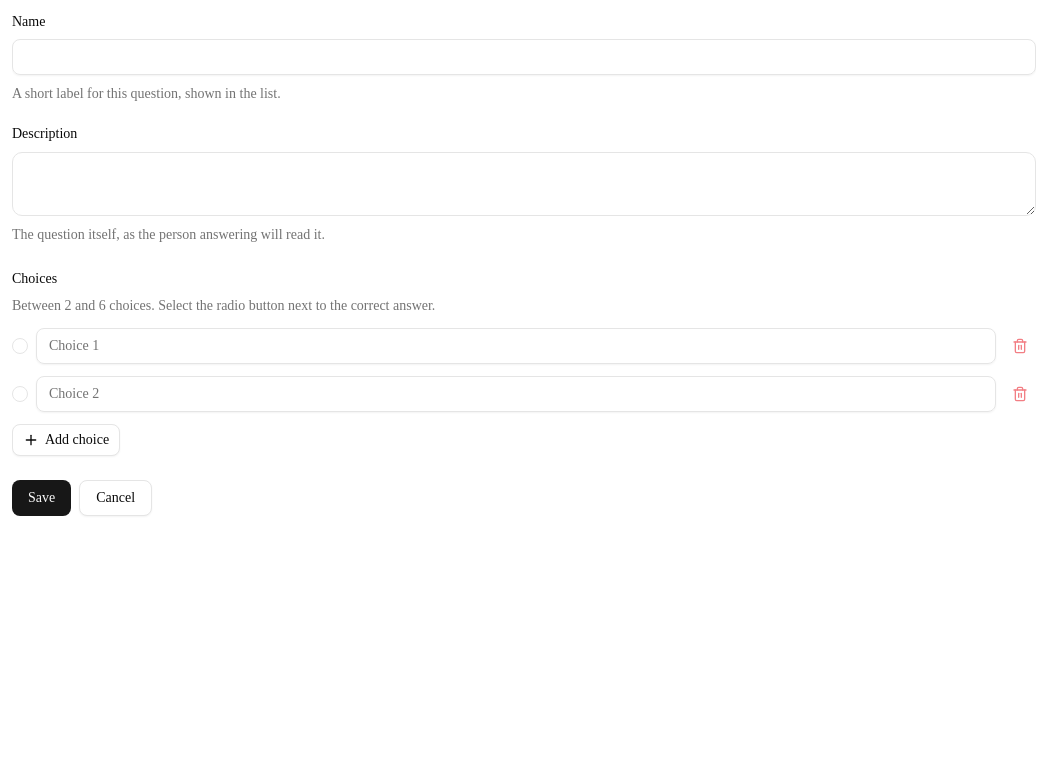
Test: McqForm choice editor › refuses to submit a question with an empty choice
The image size is (1048, 780).
Type "Capital" into the field labelled "Name" at [524, 57], box [12, 39, 1036, 75]
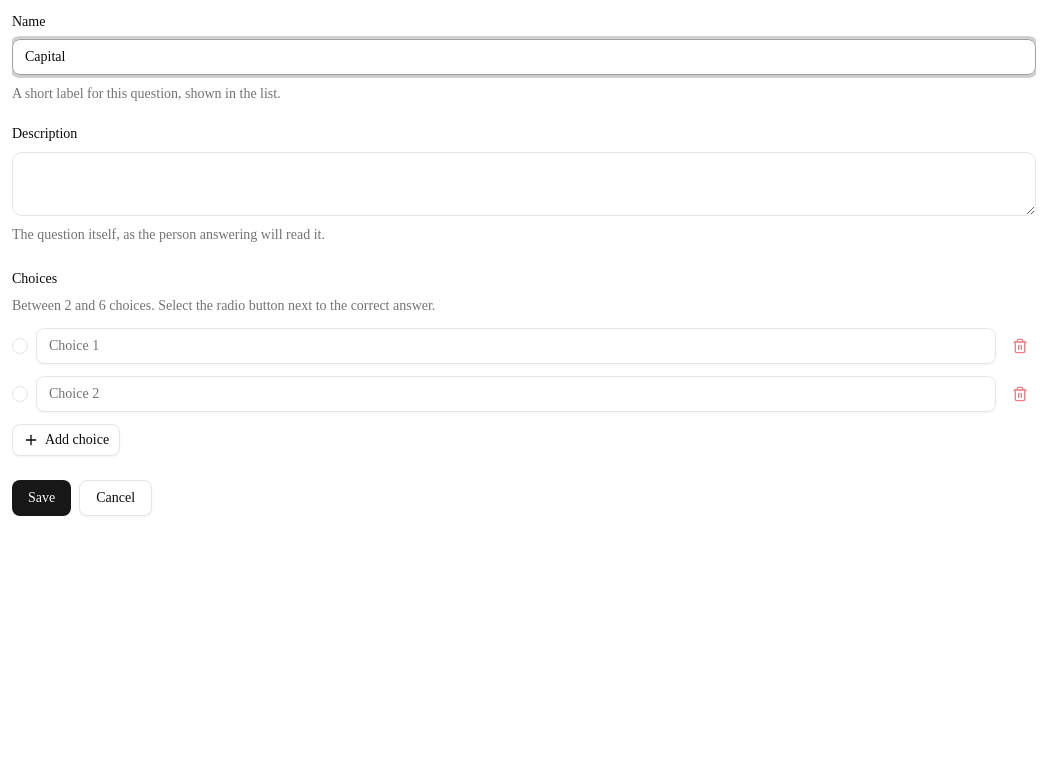
Type "Which one?" into the text box labelled "Description" at [524, 184], box [12, 152, 1036, 216]
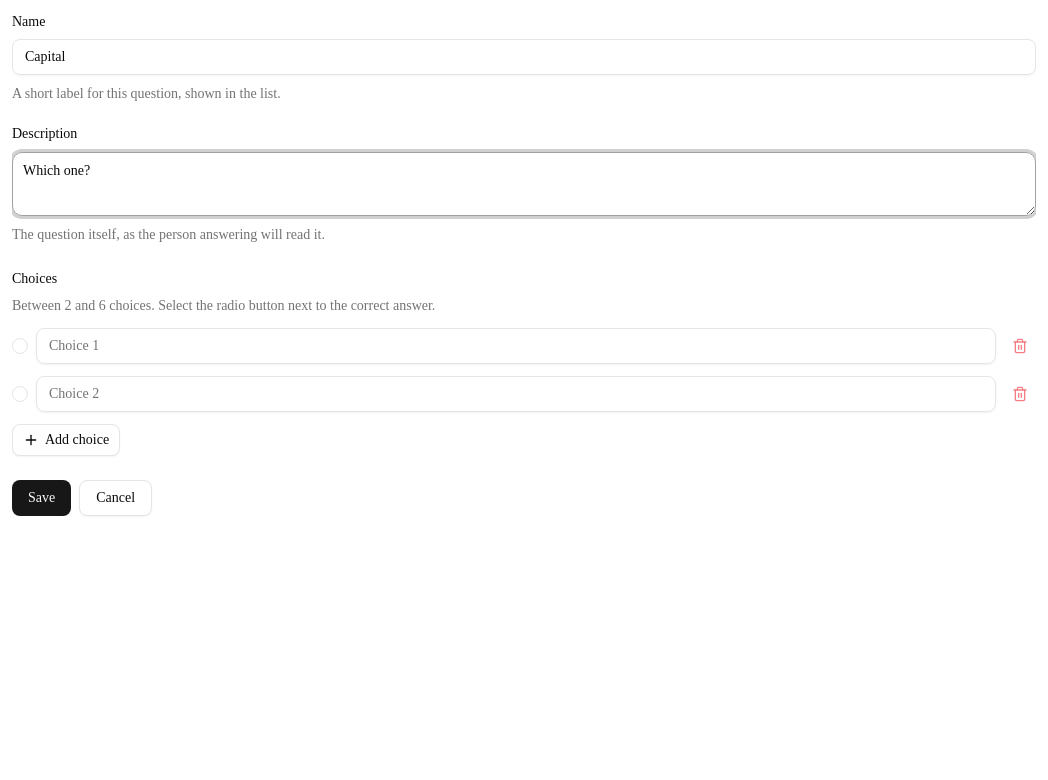
Type "Paris" into the field labelled "Choice 1" at [516, 346], box [36, 328, 996, 364]
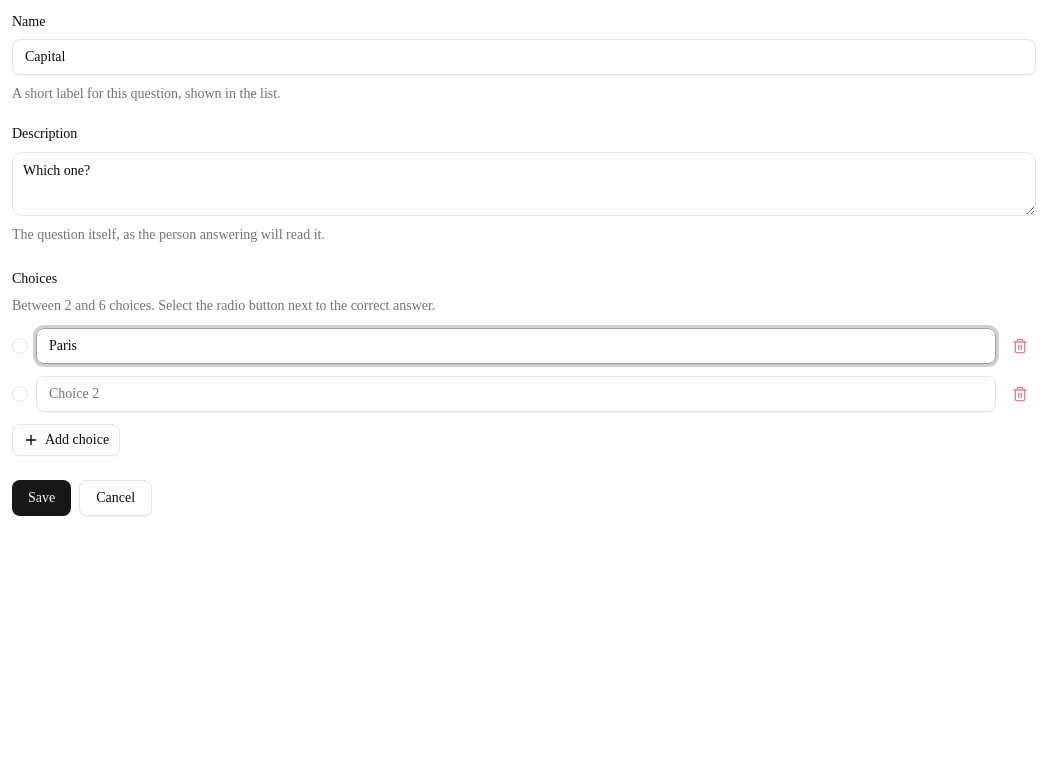
Click the radio button named "mark choice 1 as the correct answer" at [20, 346], box [12, 338, 28, 354]
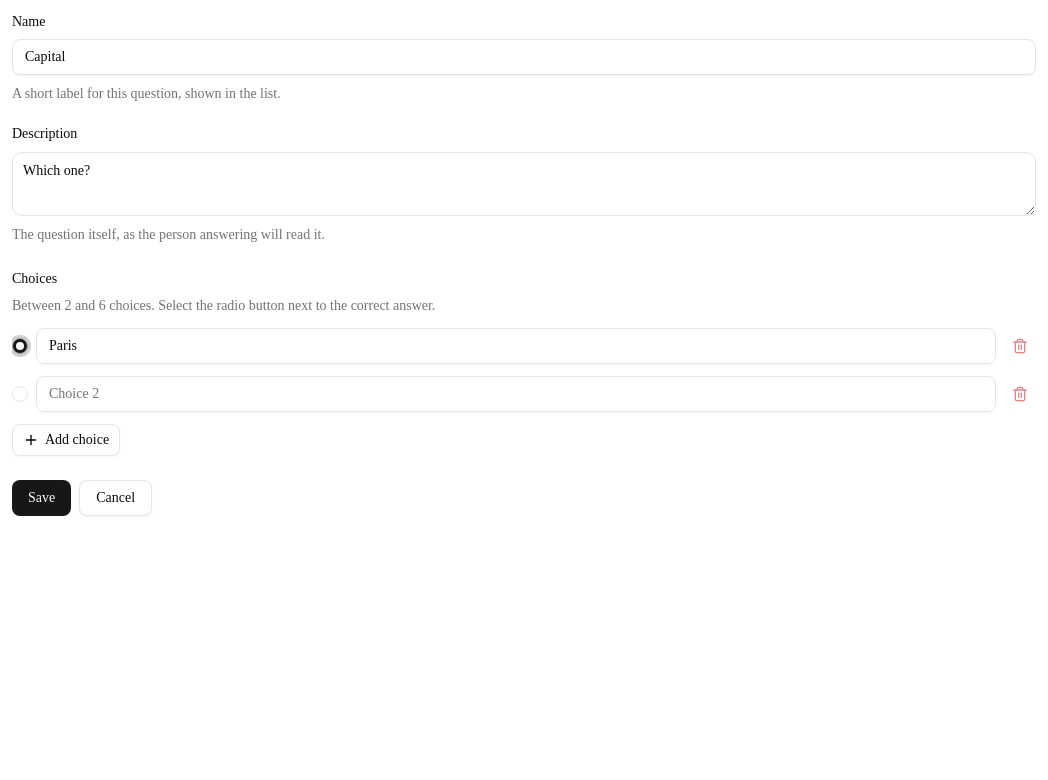
Click the button "Save" at [42, 498], box [12, 480, 71, 516]
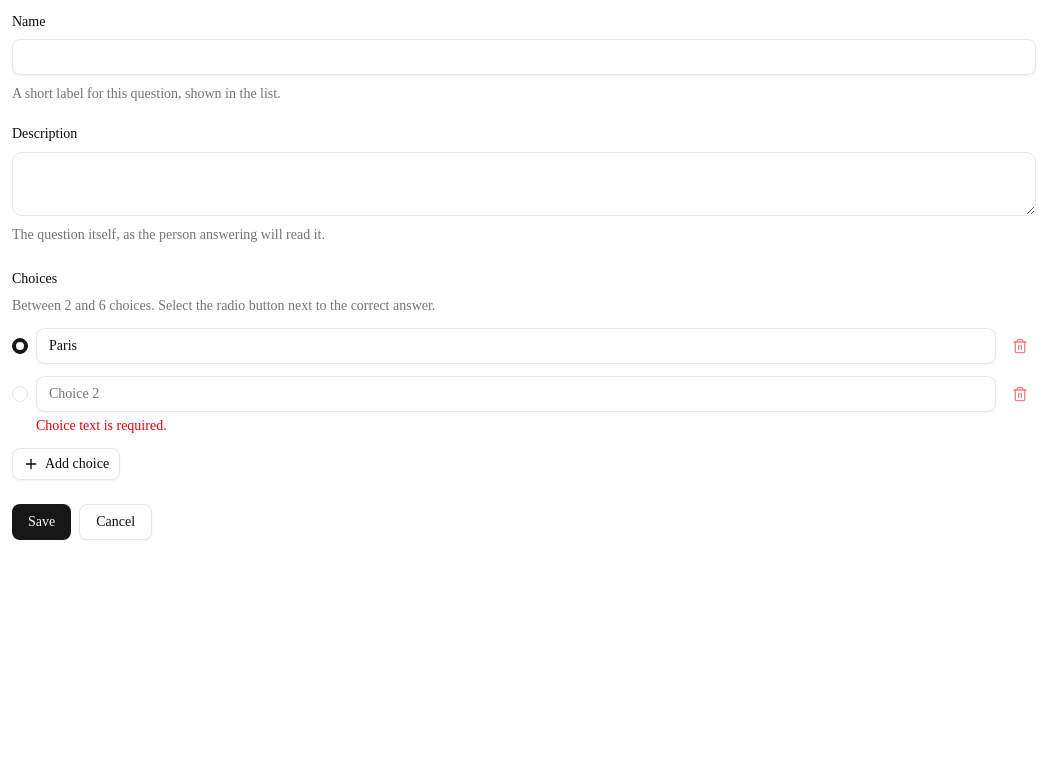
Now the text "Choice text is required." is shown, box [36, 418, 167, 432]
